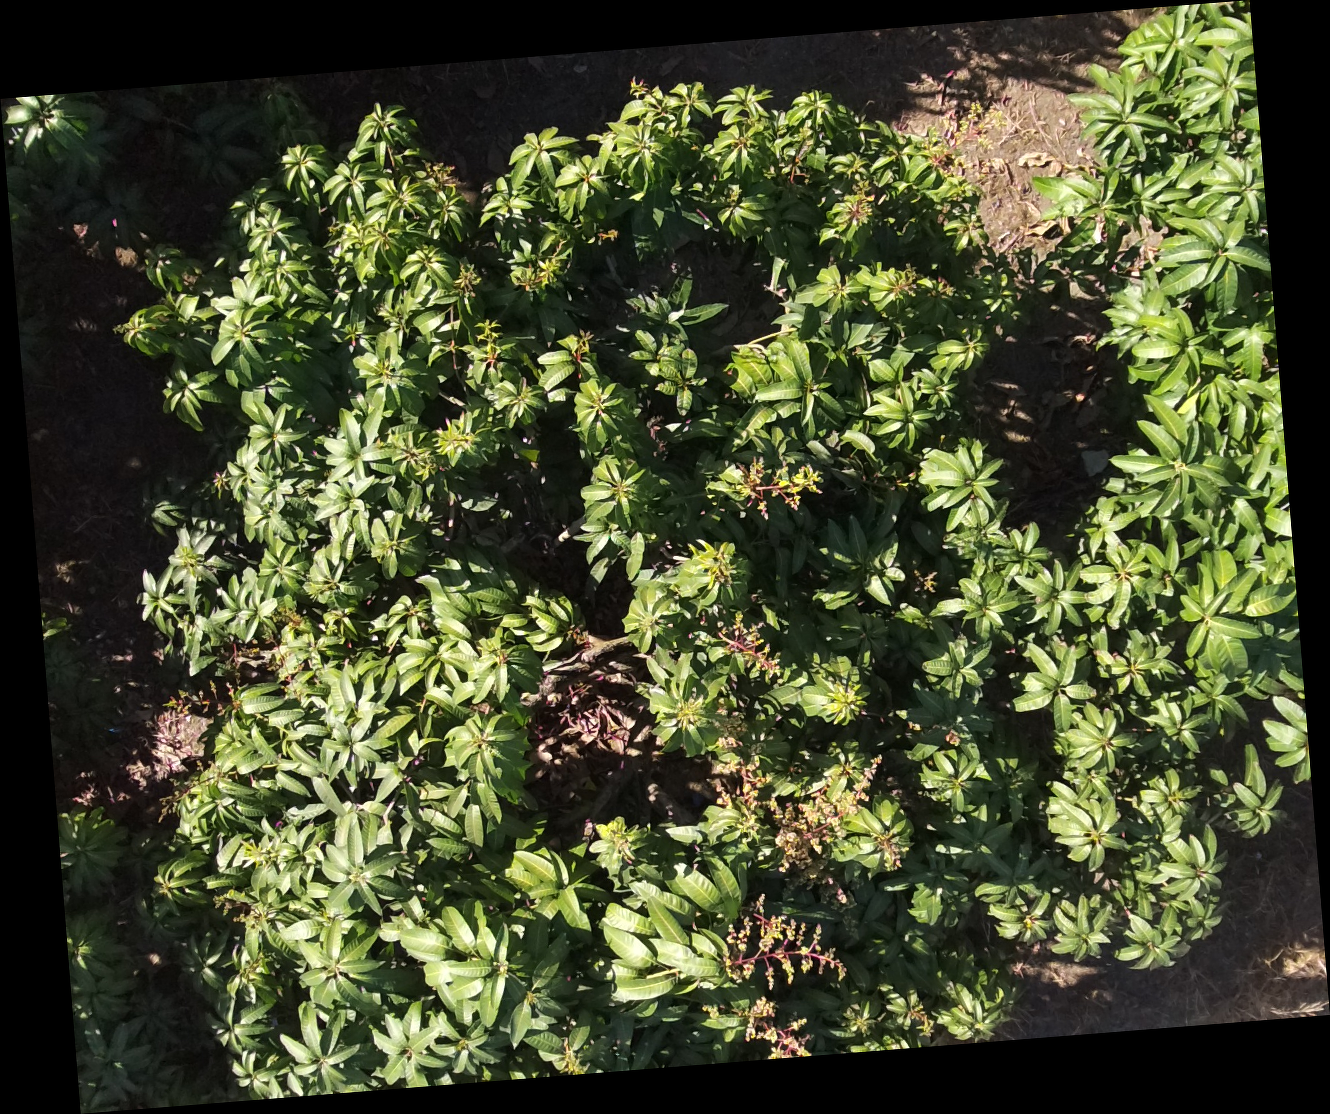flowers: (771, 755, 886, 884), (724, 893, 844, 988), (733, 997, 810, 1059), (719, 611, 780, 684)
